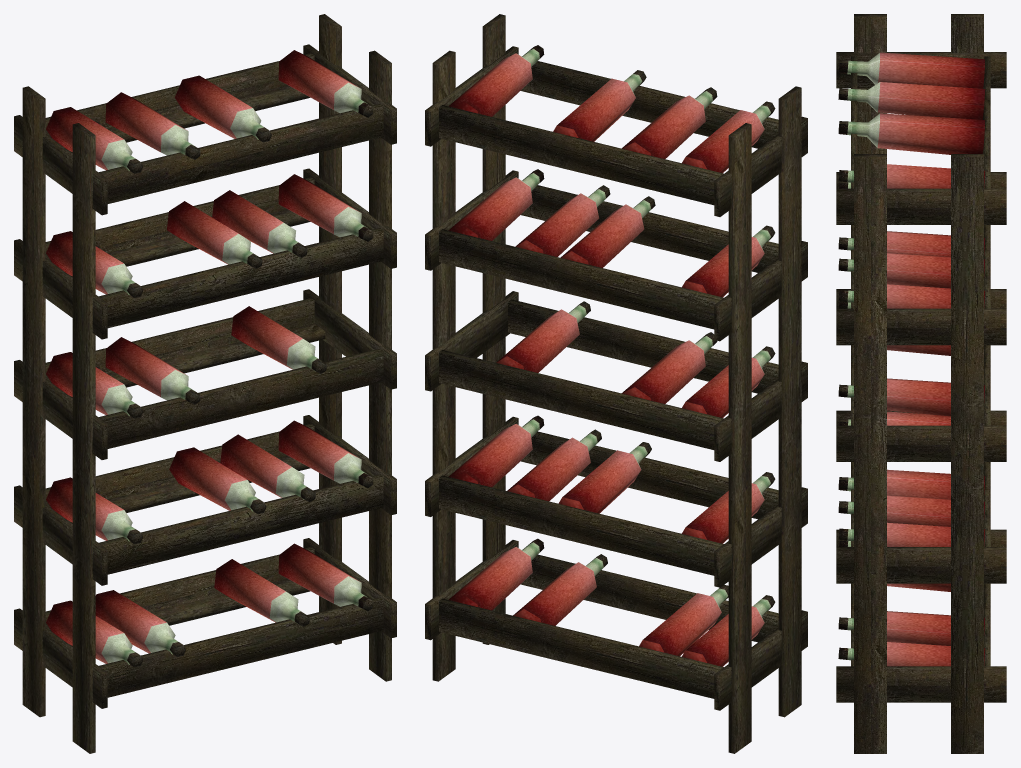
Rendered from KM_VOB_WINEBOTTLE_STAND_02.glb.
The picture shows the model from 3 angles, left to right: view 1: azimuth 30°, elevation 25°; view 2: azimuth 150°, elevation 25°; view 3: azimuth 270°, elevation 25°; orthographic projection. The views are drawn at different scales.
Parts seen in each view (by area): view 1: Mesh; view 2: Mesh; view 3: Mesh.
Part boxes in pixels (x1,y1,x2,y2): Mesh: (14,14,396,753); Mesh: (425,14,807,753); Mesh: (836,14,1006,753).
Size of the model in its own units: 1.02 by 2 by 0.5159.
2 materials, 2 textured.
